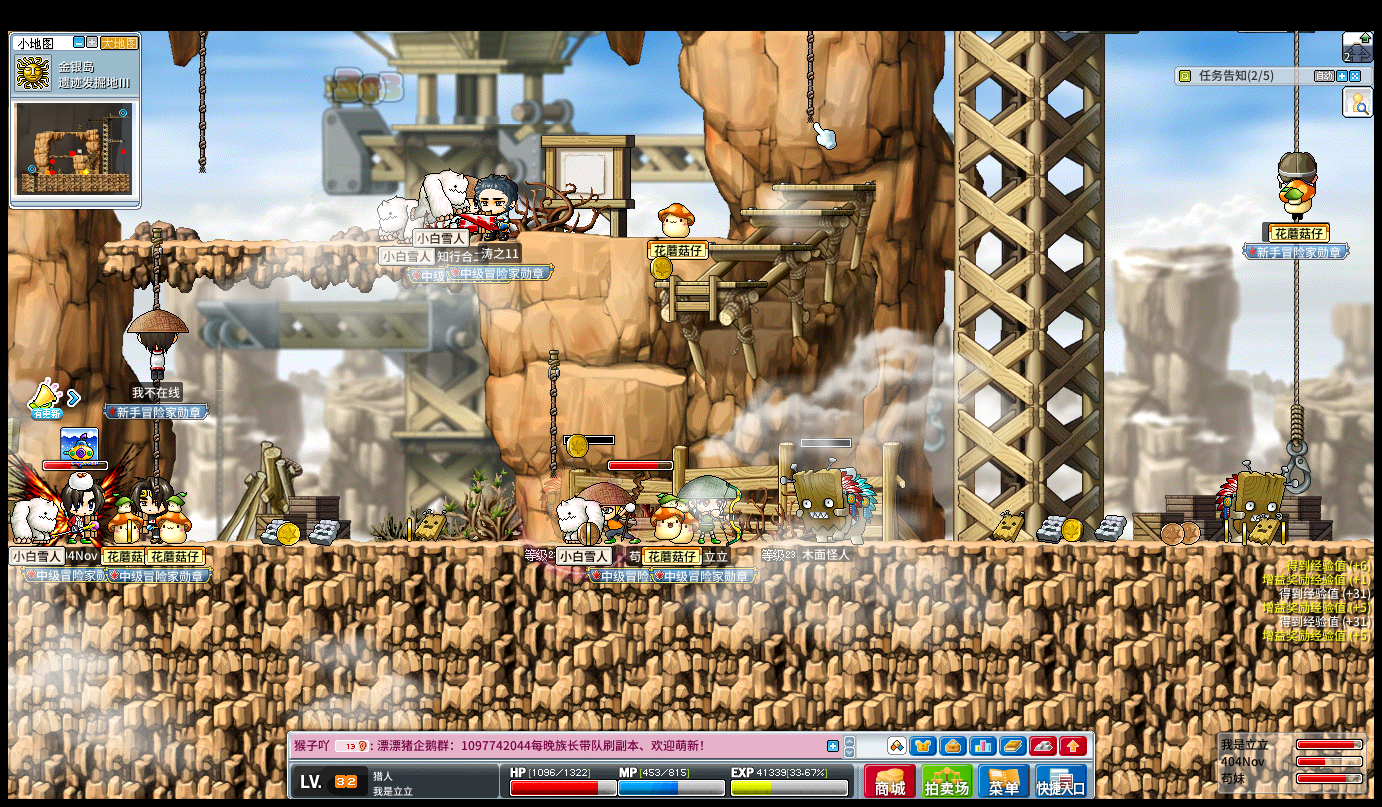floor: (106, 238, 479, 248), (578, 364, 688, 384), (602, 233, 734, 241), (650, 279, 767, 287), (737, 207, 853, 215), (698, 242, 814, 250), (770, 184, 877, 191)
monster: (789, 460, 878, 543), (1215, 462, 1295, 545)
rope: (546, 349, 561, 478), (544, 350, 558, 477), (1292, 256, 1302, 405), (198, 32, 207, 172), (805, 29, 814, 125), (1292, 30, 1299, 148), (152, 227, 162, 307), (1288, 399, 1304, 444), (153, 419, 161, 479)
